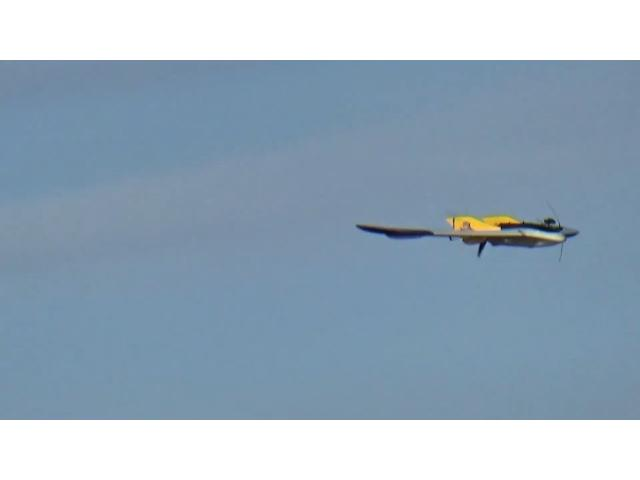Anti-Drone: (355, 217, 579, 257)
